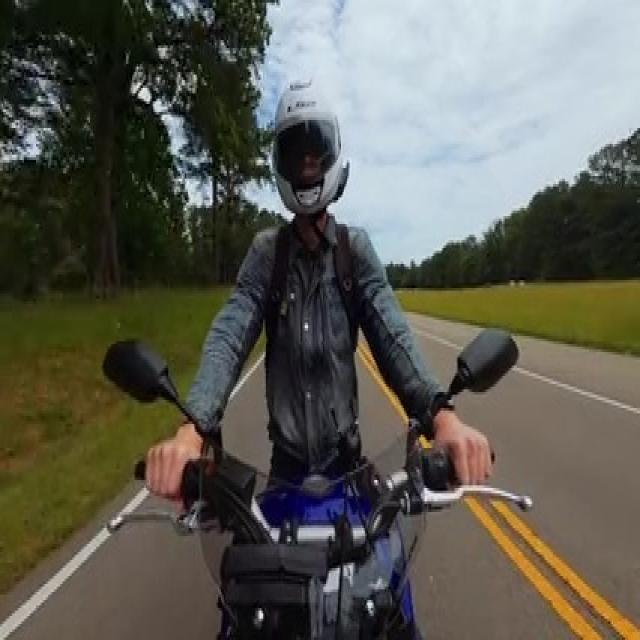Helmet_Wearer: (267, 80, 356, 241)
Person: (137, 82, 499, 500)
